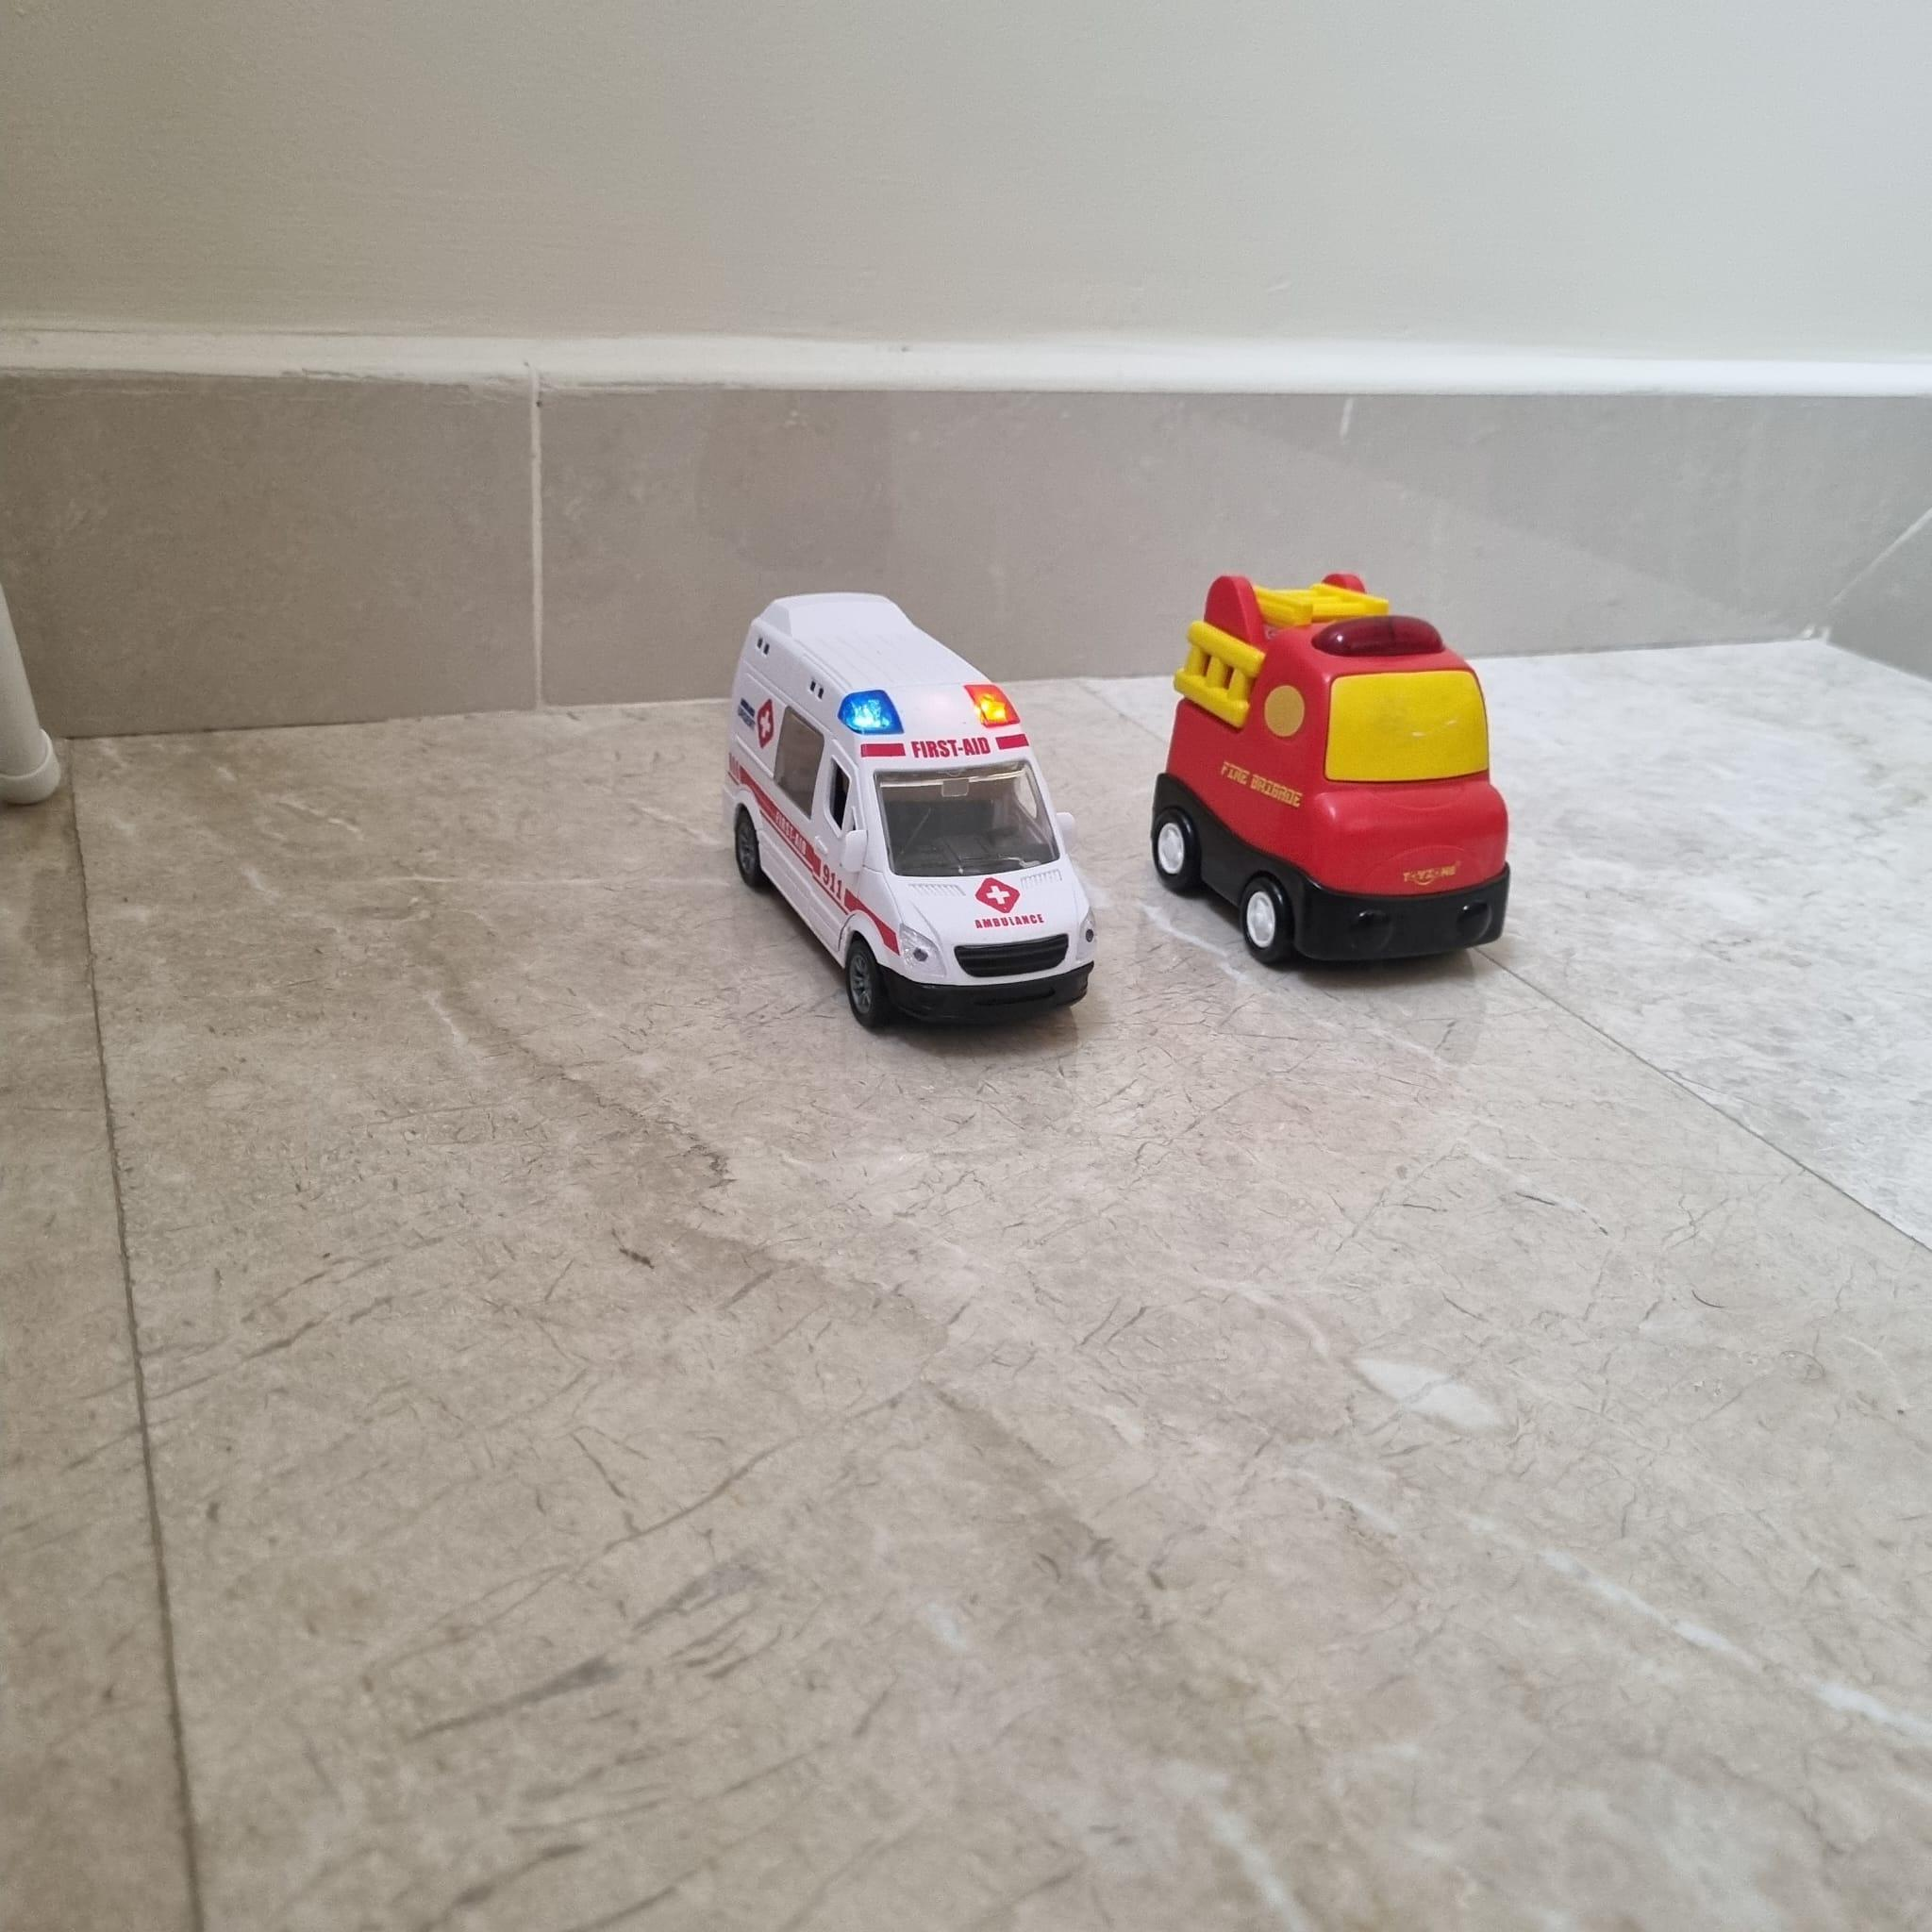ambulance_on: (718, 593, 1095, 1037)
firetruck_off: (1150, 573, 1507, 970)
